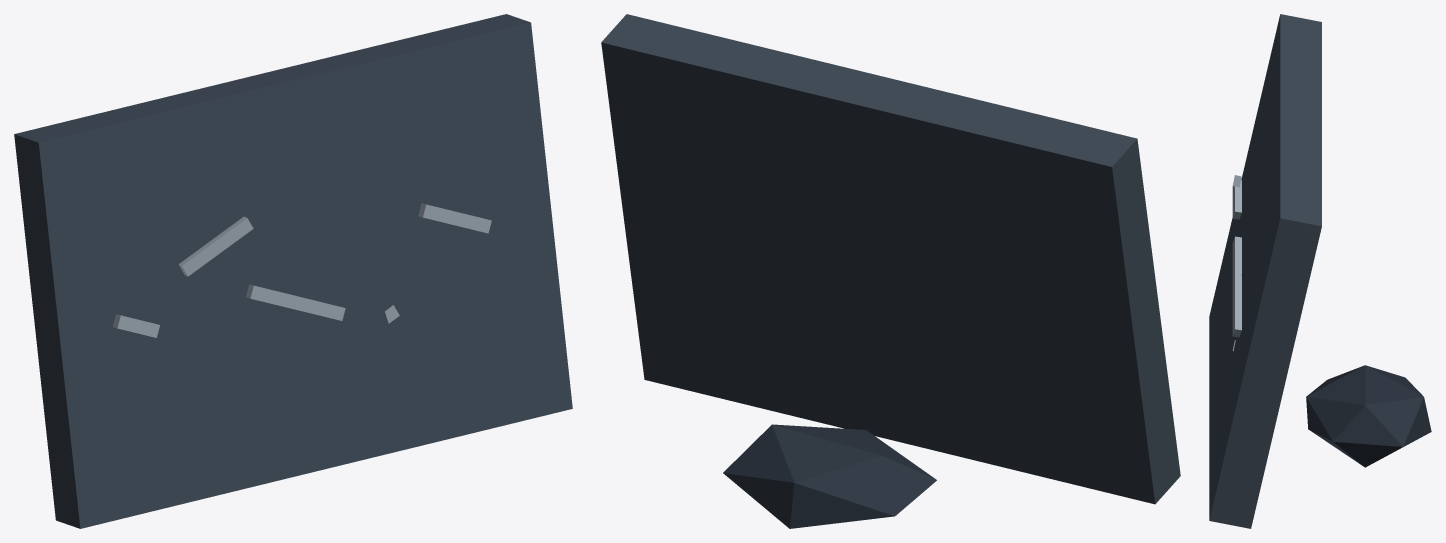
File: note_slate.glb
The picture shows the model from 3 angles, left to right: view 1: azimuth 30°, elevation 25°; view 2: azimuth 150°, elevation 25°; view 3: azimuth 270°, elevation 25°; orthographic projection. The views are drawn at different scales.
Parts seen in each view (by area): view 1: note_slate; view 2: note_slate; view 3: note_slate.
Boxes of the visible parts, bbox=[...] form: note_slate: bbox=[14, 14, 572, 528]; note_slate: bbox=[601, 14, 1180, 528]; note_slate: bbox=[1209, 14, 1431, 528].
Size of the model in its own units: 0.34 by 0.2546 by 0.1563.
